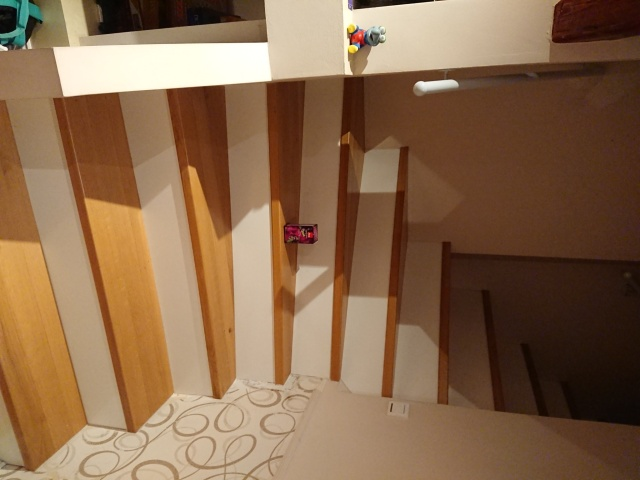Franck Black Currant Tea 60g: (281, 221, 320, 246)
